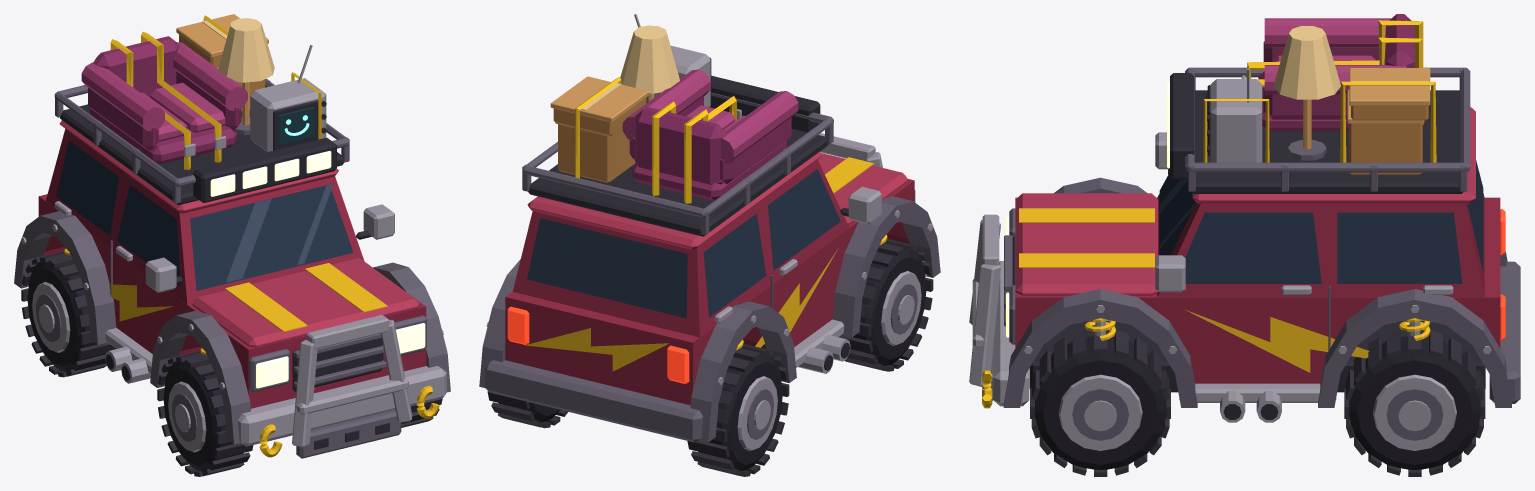
The model's file is rogue_car_LOD0.fbx.
3 views of the same model, side by side, from view 1: azimuth 30°, elevation 25°; view 2: azimuth 150°, elevation 25°; view 3: azimuth 270°, elevation 25° (orthographic). The views are drawn at different scales.
Parts seen in each view (by area): view 1: Cargo_Couch_LOD0, Glass_Windscreen_LOD0, Bonnet_LOD0, Body_WheelCutShell_LOD0, Wheel_FL_LOD0, Wheel_RL_LOD0, Body_AngularCabin_LOD0, WheelArch_RL_LOD0, Front_Bumper_LOD0, WheelArch_FL_LOD0, Cargo_RetroTV_LOD0, Rack_Base_LOD0 (+33 smaller); view 2: Body_WheelCutShell_LOD0, Cargo_Couch_LOD0, Glass_Rear_LOD0, Body_AngularCabin_LOD0, Wheel_RL_LOD0, Wheel_FL_LOD0, Rear_Bumper_LOD0, Rack_Base_LOD0, WheelArch_FL_LOD0, WheelArch_RL_LOD0, Glass_Side_-1_0_LOD0, Glass_Side_-1_1_LOD0 (+23 smaller); view 3: Wheel_FR_LOD0, Wheel_RR_LOD0, Body_WheelCutShell_LOD0, Bonnet_LOD0, Rack_Base_LOD0, Body_AngularCabin_LOD0, Glass_Side_1_0_LOD0, Glass_Side_1_1_LOD0, Cargo_Couch_LOD0, WheelArch_FR_LOD0, WheelArch_RR_LOD0, Cargo_StandingLamp_LOD0 (+25 smaller).
Boxes of the visible parts, <box> form: Cargo_Couch_LOD0: <box>81,36,247,164</box>; Glass_Windscreen_LOD0: <box>190,184,353,290</box>; Bonnet_LOD0: <box>192,258,420,347</box>; Body_WheelCutShell_LOD0: <box>38,194,426,408</box>; Wheel_FL_LOD0: <box>157,351,253,476</box>; Wheel_RL_LOD0: <box>21,251,116,377</box>; Body_AngularCabin_LOD0: <box>46,129,364,304</box>; WheelArch_RL_LOD0: <box>14,211,116,344</box>; Front_Bumper_LOD0: <box>237,366,446,446</box>; WheelArch_FL_LOD0: <box>150,310,250,444</box>; Cargo_RetroTV_LOD0: <box>250,45,326,151</box>; Rack_Base_LOD0: <box>60,104,343,205</box>; Body_WheelCutShell_LOD0: <box>505,179,914,405</box>; Cargo_Couch_LOD0: <box>622,69,798,200</box>; Glass_Rear_LOD0: <box>527,218,687,318</box>; Body_AngularCabin_LOD0: <box>512,159,849,337</box>; Wheel_RL_LOD0: <box>687,344,789,476</box>; Wheel_FL_LOD0: <box>839,238,933,371</box>; Rear_Bumper_LOD0: <box>485,360,703,442</box>; Rack_Base_LOD0: <box>528,129,828,236</box>; WheelArch_FL_LOD0: <box>832,196,940,337</box>; WheelArch_RL_LOD0: <box>690,301,796,442</box>; Glass_Side_-1_0_LOD0: <box>768,169,840,270</box>; Glass_Side_-1_1_LOD0: <box>703,213,766,317</box>; Wheel_FR_LOD0: <box>1030,330,1170,476</box>; Wheel_RR_LOD0: <box>1344,330,1485,476</box>; Body_WheelCutShell_LOD0: <box>1015,197,1500,383</box>; Bonnet_LOD0: <box>1015,193,1158,295</box>; Rack_Base_LOD0: <box>1192,90,1463,193</box>; Body_AngularCabin_LOD0: <box>1157,193,1484,297</box>; Glass_Side_1_0_LOD0: <box>1185,212,1321,283</box>; Glass_Side_1_1_LOD0: <box>1337,212,1462,283</box>; Cargo_Couch_LOD0: <box>1258,14,1414,131</box>; WheelArch_FR_LOD0: <box>1003,289,1197,407</box>; WheelArch_RR_LOD0: <box>1318,289,1511,407</box>; Cargo_StandingLamp_LOD0: <box>1273,26,1340,160</box>.
Bounding box in the file's own units: 3.29 × 4.55 × 5.68.
